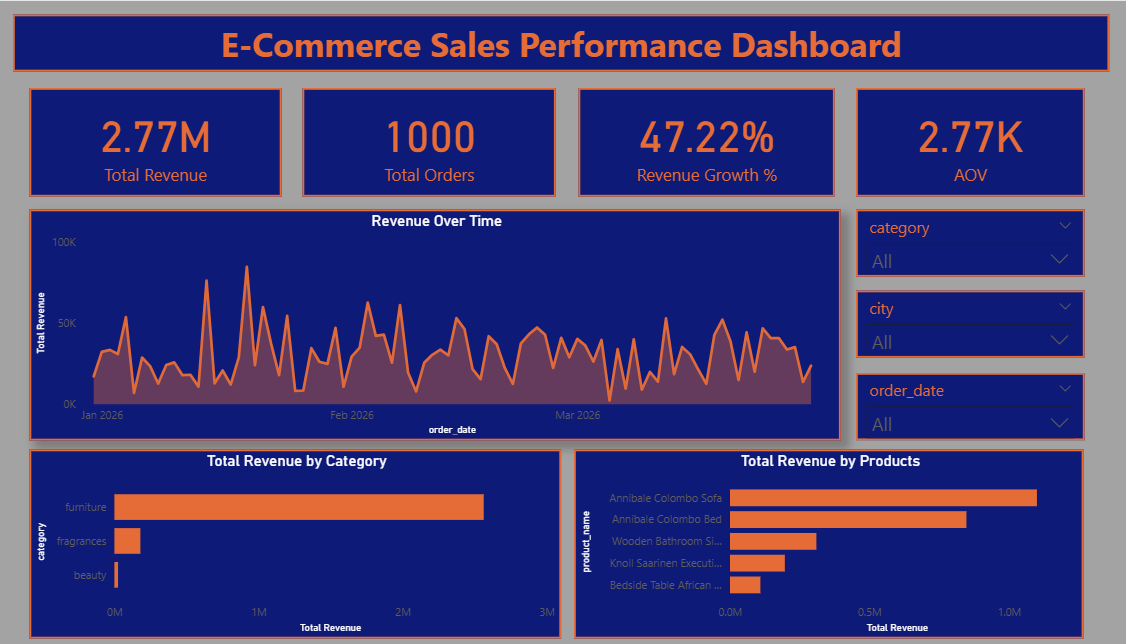

What the dashboard file says about the page in this screenshot:
{"tool":"powerbi","page":{"name":"Executive Overview","canvas":[1280,720],"ordinal":0},"visuals":[{"type":"card","fields":{"Values":["Measures_Table.Total Revenue"]},"box":[48.8,96,279.8,120.4],"z":0},{"type":"card","fields":{"Values":["Measures_Table.Total Orders"]},"box":[352.4,96,281.4,120.4],"z":1000},{"type":"card","fields":{"Values":["Measures_Table.Revenue Growth %"]},"box":[657.7,96,284.6,120.4],"z":2000},{"type":"card","fields":{"Values":["Measures_Table.AOV"]},"box":[966.2,96,253.7,120.4],"z":3000},{"type":"textbox","box":[29.3,14.6,1218.3,63.4],"z":4000},{"type":"lineChart","title":"Revenue Over Time","fields":{"Y":["Measures_Table.Total Revenue"],"Category":["orders.order_date"]},"box":[48.8,231,901.1,257],"z":5000},{"type":"clusteredBarChart","title":"Total Revenue by Category","fields":{"Y":["Measures_Table.Total Revenue"],"Category":["products_clean.category"]},"box":[48.8,497.7,590.4,209.8],"z":6000},{"type":"clusteredBarChart","title":"Total Revenue by Products","fields":{"Category":["products_clean.product_name"],"Y":["Measures_Table.Total Revenue"]},"box":[653.9,497.7,566,209.8],"z":7000},{"type":"slicer","fields":{"Values":["products_clean.category"]},"box":[966.2,231,253.7,74.8],"z":8000},{"type":"slicer","fields":{"Values":["customers.city"]},"box":[966.2,322.1,253.7,74.8],"z":9000},{"type":"slicer","fields":{"Values":["orders.order_date"]},"box":[966.2,413.1,253.7,74.8],"z":10000}]}

Visuals, with their boxes in screenshot pixels (x1, y1, x2, y2), scaled from the page's 1280x720 canvas onto the 1126x644 screenshot:
card - Measures_Table.Total Revenue: bbox=(43, 86, 289, 194)
card - Measures_Table.Total Orders: bbox=(310, 86, 558, 194)
card - Measures_Table.Revenue Growth %: bbox=(579, 86, 829, 194)
card - Measures_Table.AOV: bbox=(850, 86, 1073, 194)
textbox: bbox=(26, 13, 1097, 70)
"Revenue Over Time" lineChart: bbox=(43, 207, 836, 436)
"Total Revenue by Category" clusteredBarChart: bbox=(43, 445, 562, 633)
"Total Revenue by Products" clusteredBarChart: bbox=(575, 445, 1073, 633)
slicer - products_clean.category: bbox=(850, 207, 1073, 274)
slicer - customers.city: bbox=(850, 288, 1073, 355)
slicer - orders.order_date: bbox=(850, 369, 1073, 436)
